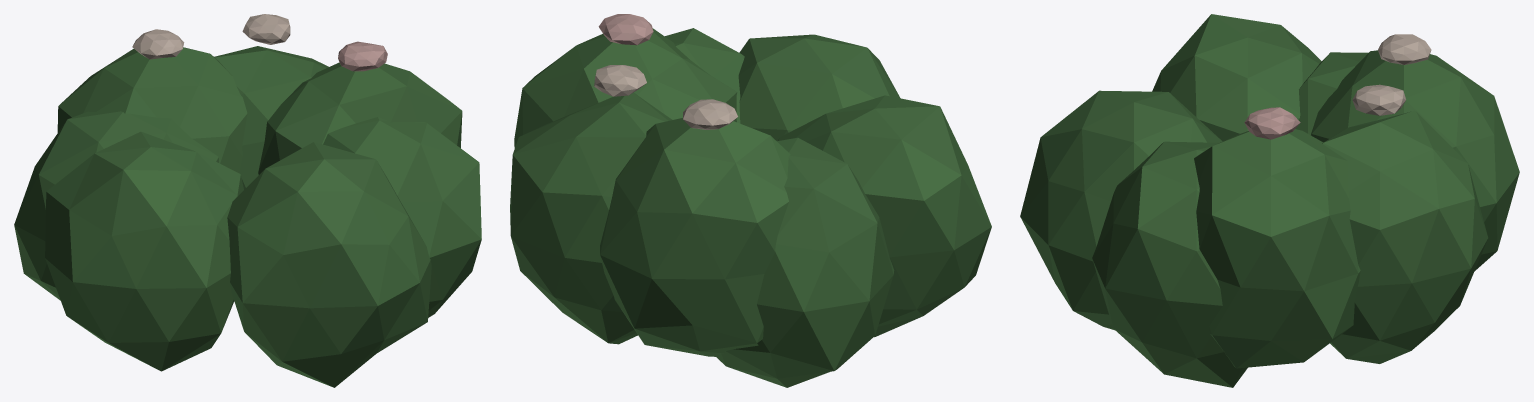
Rendered from coast-shrub-2.glb.
3 views of the same model, side by side, from view 1: azimuth 30°, elevation 25°; view 2: azimuth 150°, elevation 25°; view 3: azimuth 270°, elevation 25° (orthographic). The views are drawn at different scales.
Visible parts, largest first — view 1: coast-shrub-2; view 2: coast-shrub-2; view 3: coast-shrub-2.
Boxes of the visible parts, x1,y1,x2,y2 form: coast-shrub-2: [14, 14, 481, 387]; coast-shrub-2: [510, 14, 991, 387]; coast-shrub-2: [1020, 14, 1519, 387].
Size of the model in its own units: 1.02 by 0.6423 by 1.02.
